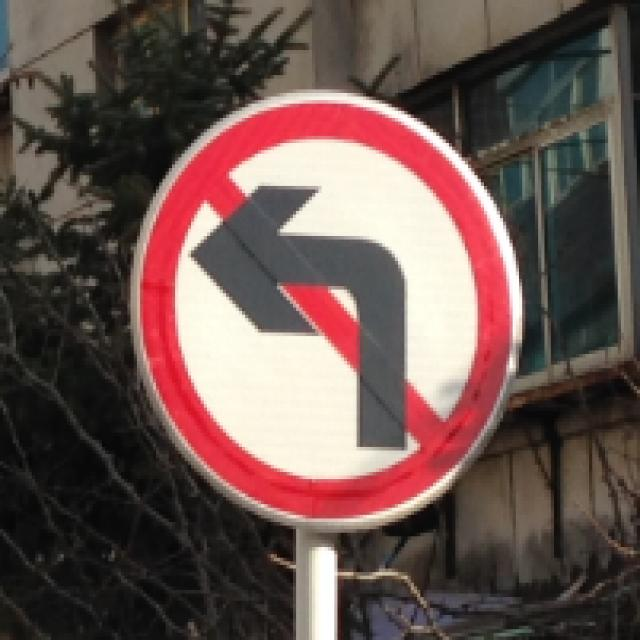Not that Direction: (126, 80, 522, 530)
